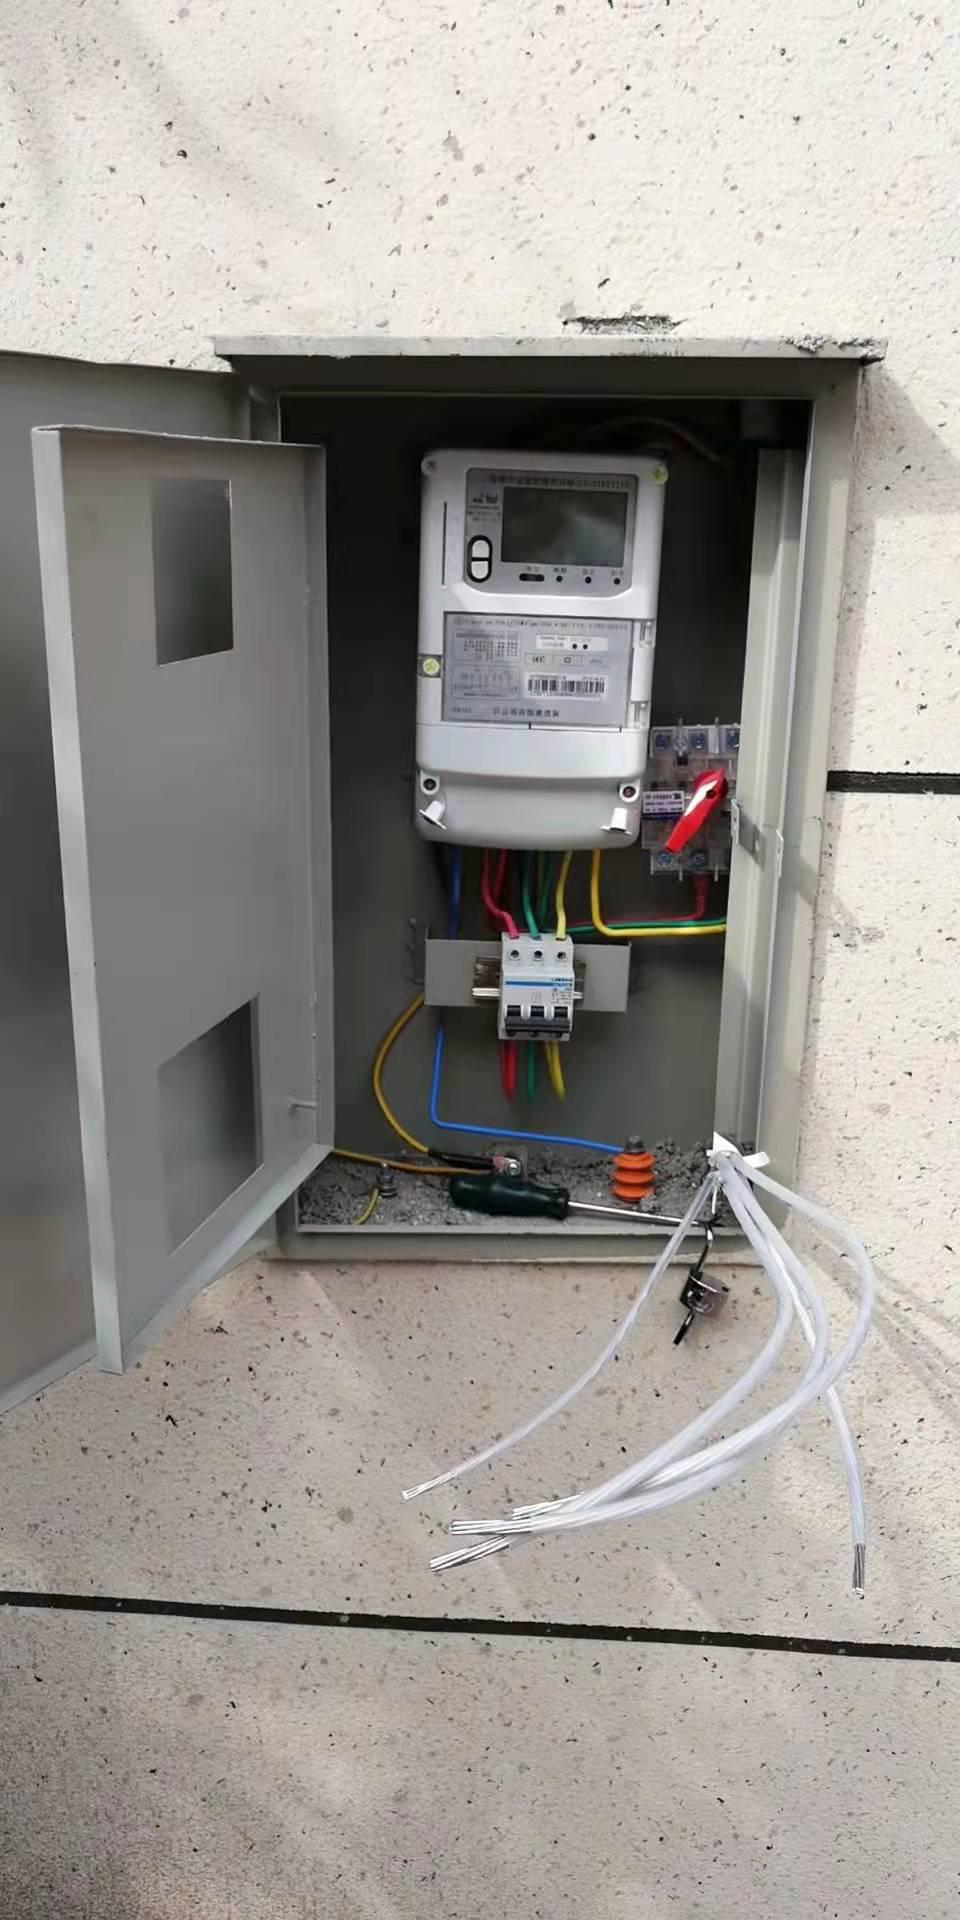digital: (422, 453, 659, 784)
